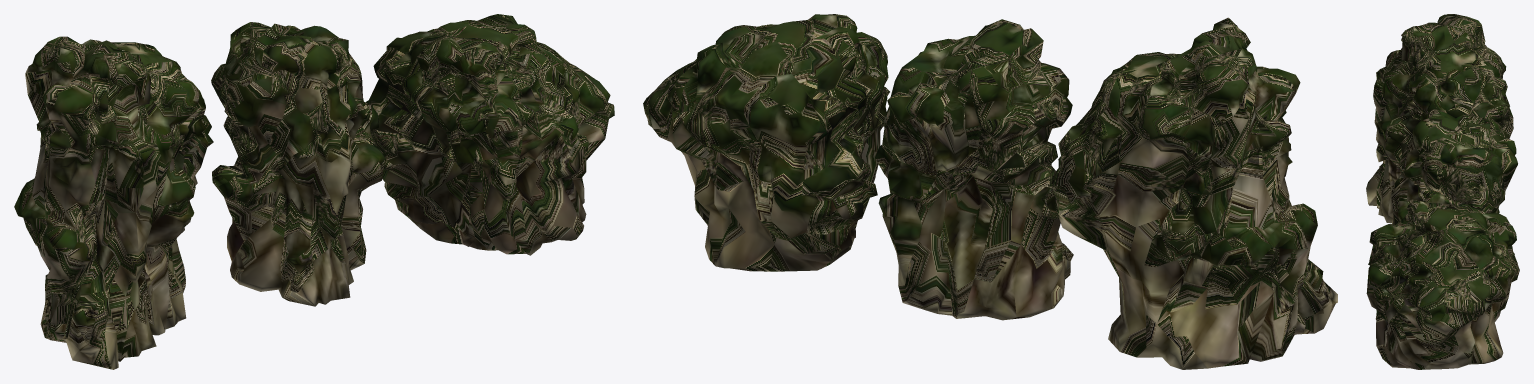
Rendered from Cliff_Formations.glb.
3 renders of one model, left to right at view 1: azimuth 30°, elevation 25°; view 2: azimuth 150°, elevation 25°; view 3: azimuth 270°, elevation 25°, orthographic. The views are drawn at different scales.
Parts seen in each view (by area): view 1: Cliff_Formations; view 2: Cliff_Formations; view 3: Cliff_Formations.
Part boxes in pixels (x1,y1,x2,y2): Cliff_Formations: [14, 14, 614, 369]; Cliff_Formations: [643, 14, 1337, 369]; Cliff_Formations: [1366, 14, 1519, 369].
Size of the model in its own units: 1.89 by 0.8631 by 0.6215.
1 material, 1 textured.
